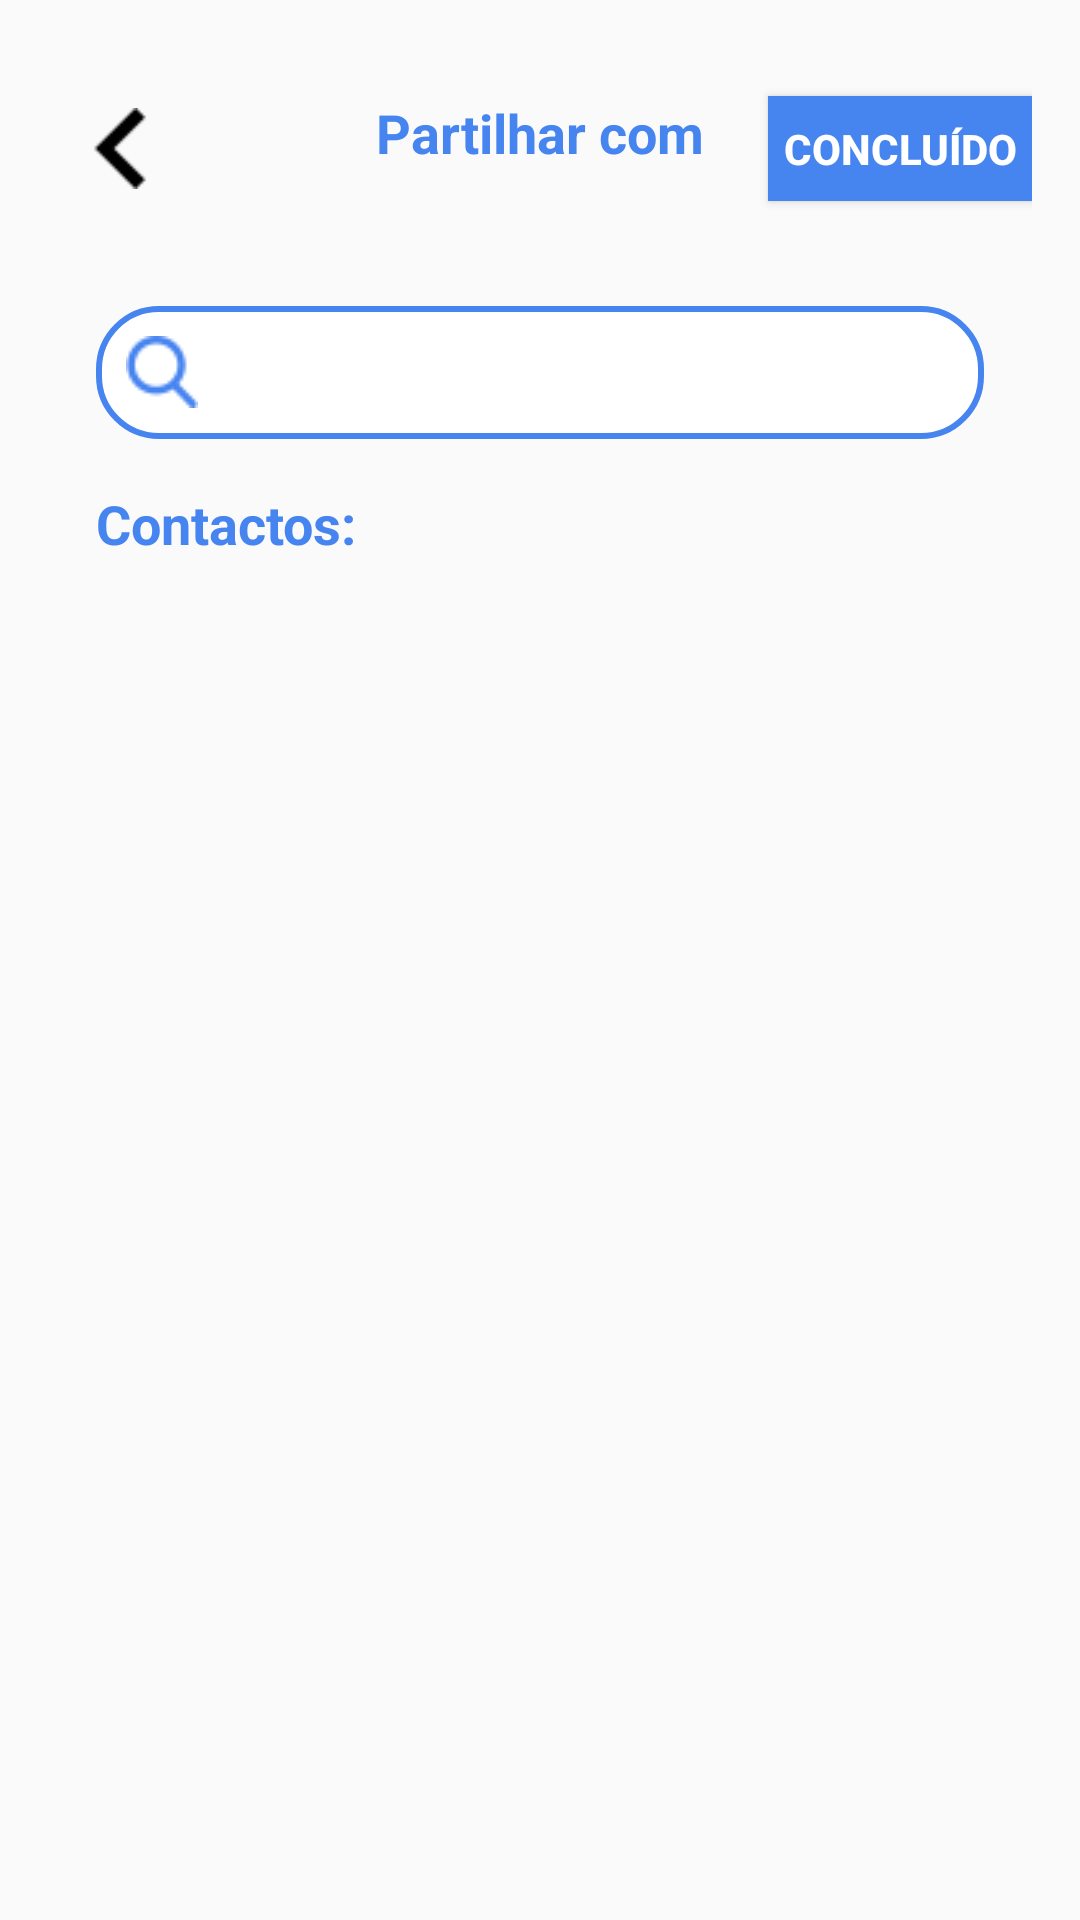

Screen size 1080 x 1920. Icon name, then its center in pixels as [x,y]:
backblack: [120,148]
